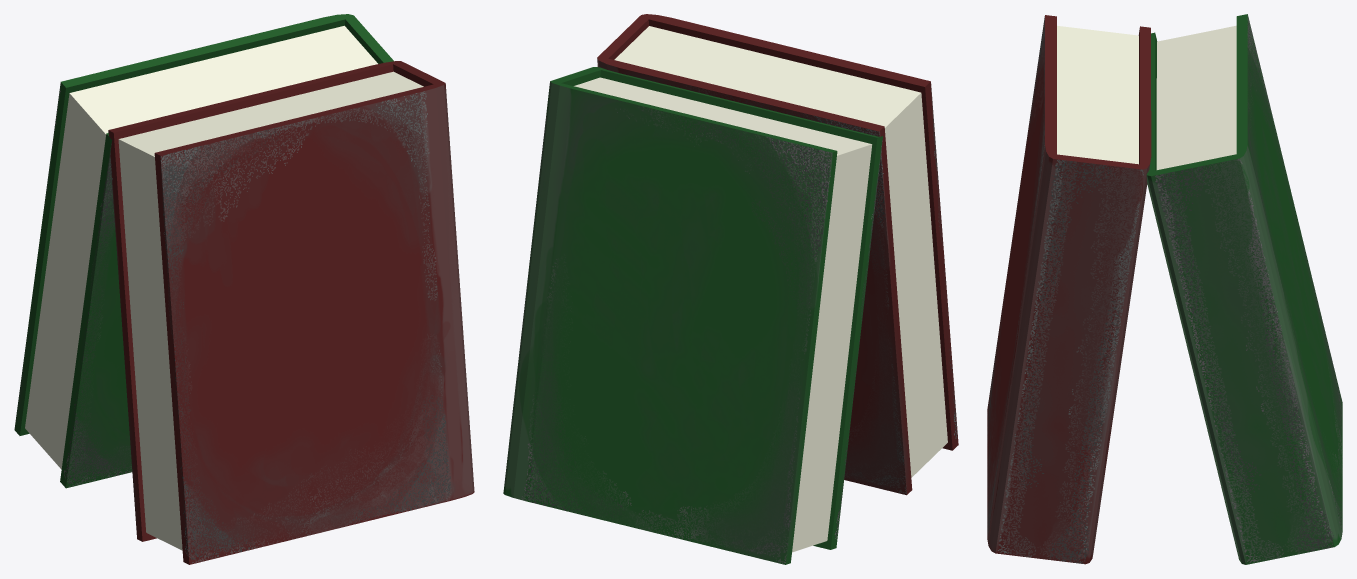
File: Stack-7.fbx
3 renders of one model, left to right at view 1: azimuth 30°, elevation 25°; view 2: azimuth 150°, elevation 25°; view 3: azimuth 270°, elevation 25°, orthographic. The views are drawn at different scales.
Parts seen in each view (by area): view 1: Cube.016; view 2: Cube.016; view 3: Cube.016.
Boxes of the visible parts, bbox=[...] form: Cube.016: bbox=[14, 14, 474, 564]; Cube.016: bbox=[503, 14, 958, 564]; Cube.016: bbox=[987, 14, 1342, 564].
Bounding box in the file's own units: 12.86 × 17.13 × 13.46.
Materials: 4 (2 with a texture image).
